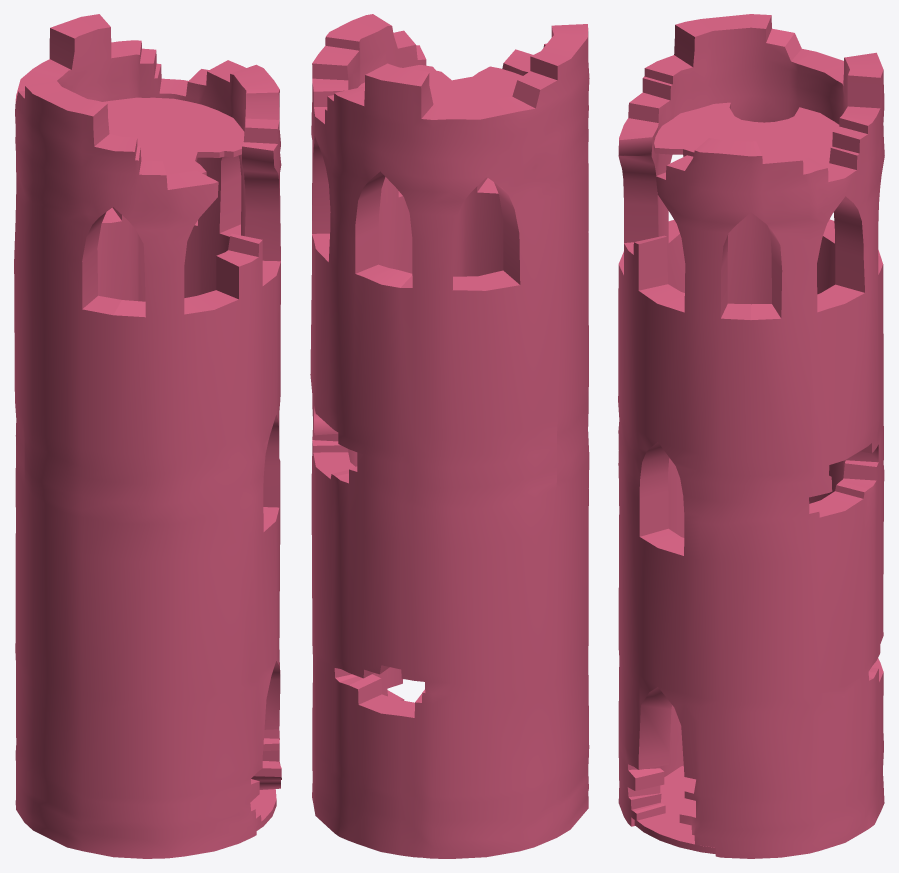
Rendered from torrevfinal (1).fbx.
3 renders of one model, left to right at view 1: azimuth 30°, elevation 25°; view 2: azimuth 150°, elevation 25°; view 3: azimuth 270°, elevation 25°, orthographic. The views are drawn at different scales.
Visible parts, largest first — view 1: Torre_LOD0; view 2: Torre_LOD0; view 3: Torre_LOD0.
Part boxes in pixels (x1=…): Torre_LOD0: x1=14, y1=14, x2=281, y2=858; Torre_LOD0: x1=310, y1=14, x2=589, y2=858; Torre_LOD0: x1=618, y1=14, x2=884, y2=858.
Size of what is drawn, in the model's own units: 1472 by 4477 by 1474.
